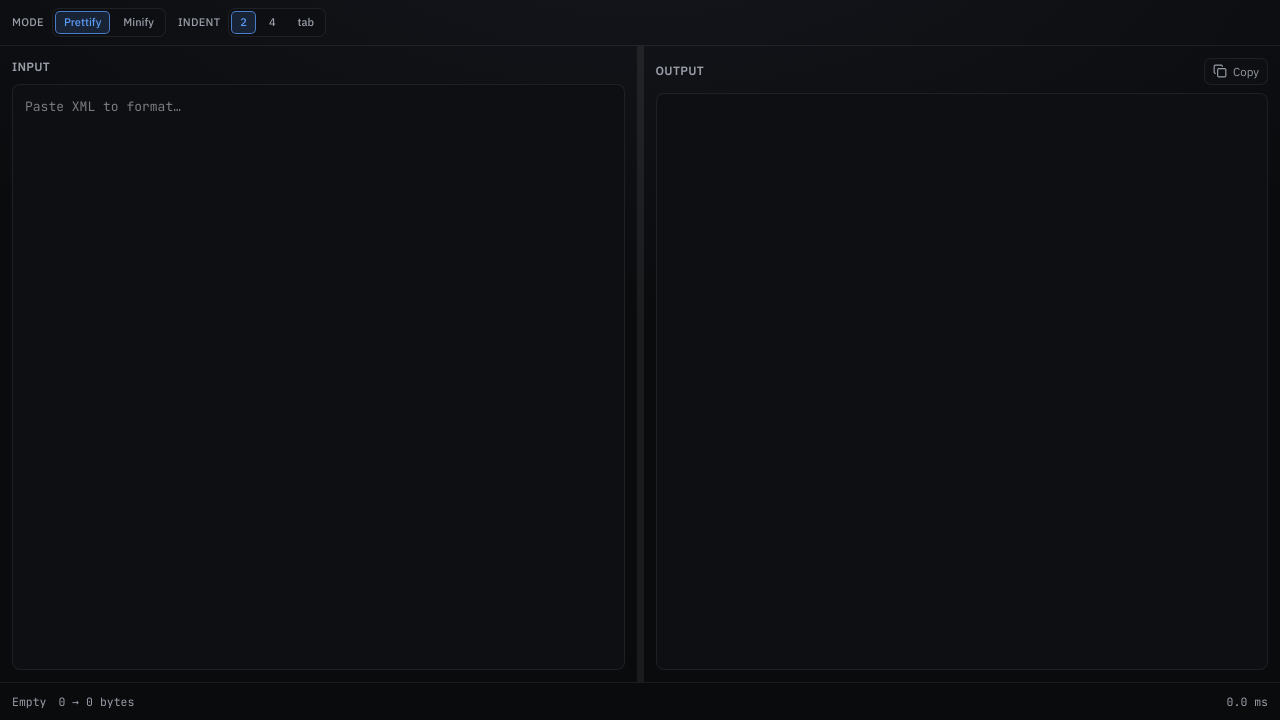
it: XmlFormatterTool › re-derives on indent / minify toggles
Type "<a><b>1</b></a>" into the text box with id "xml-input".
click(318, 377); type("<a><b>1</b></a>")  # box [12,84,624,670]
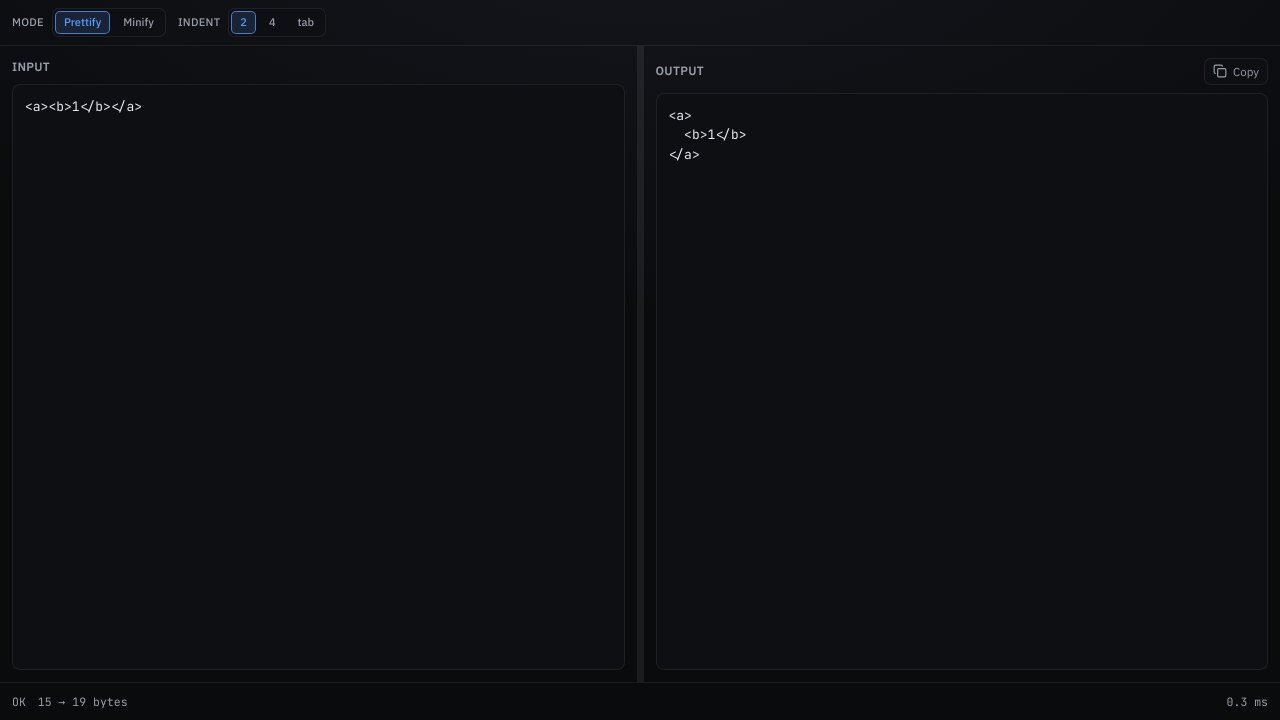
Click the button "4".
click(272, 22)  # box [260,11,284,34]
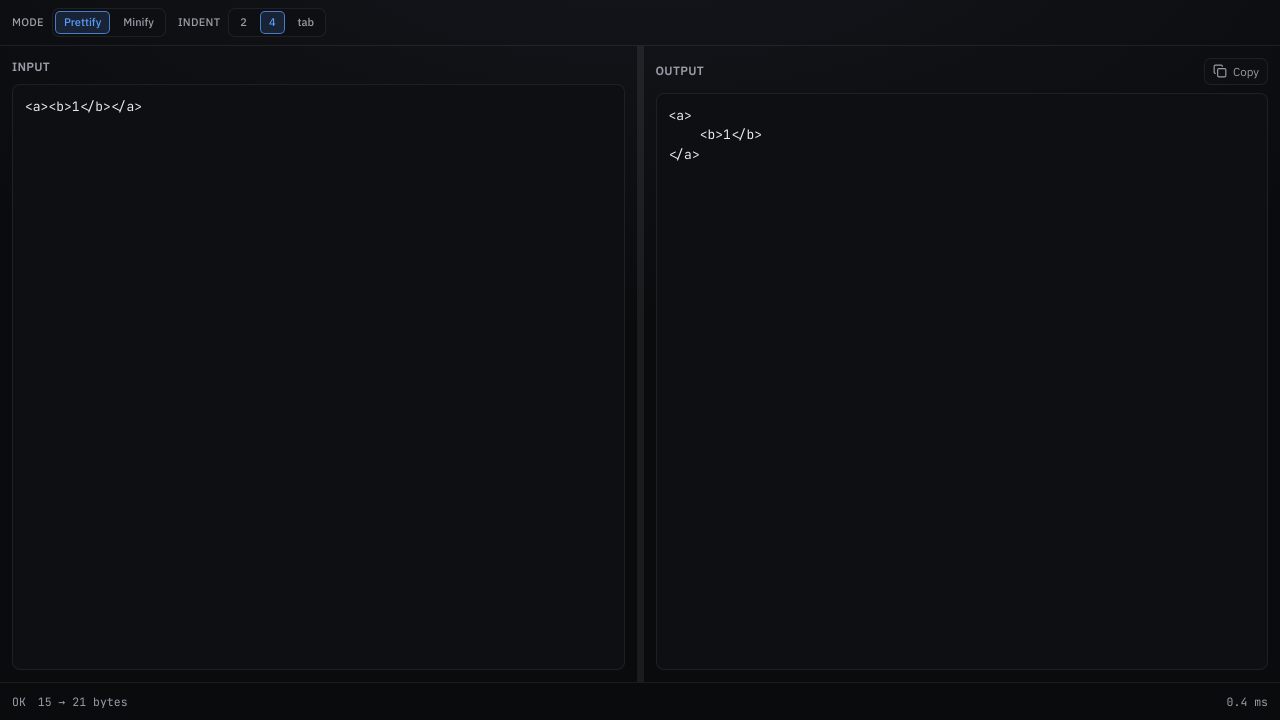
// Minify is now a mode SEGMENT (not a toggle): clicking it selects minify mode.
Click the button "Minify".
click(139, 22)  # box [114,11,163,34]
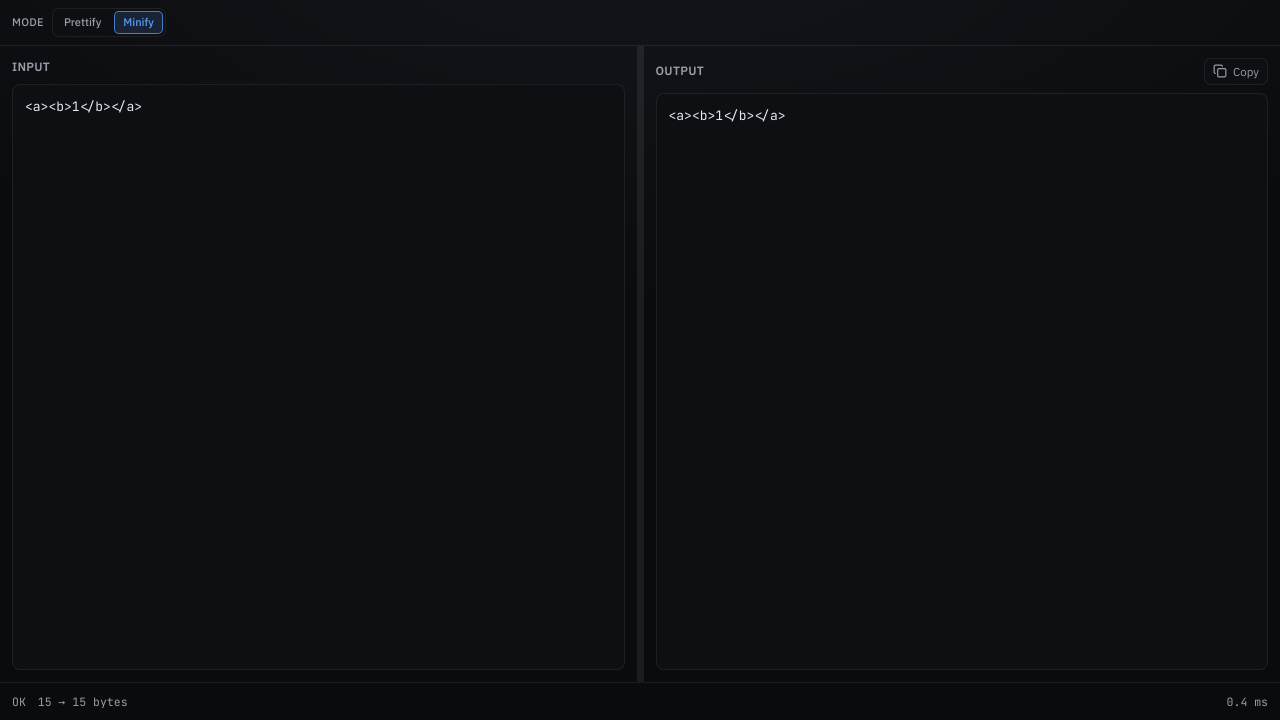
expect the text box with id "xml-output" holds "<a><b>1</b></a>": met, box [656,93,1268,670]
